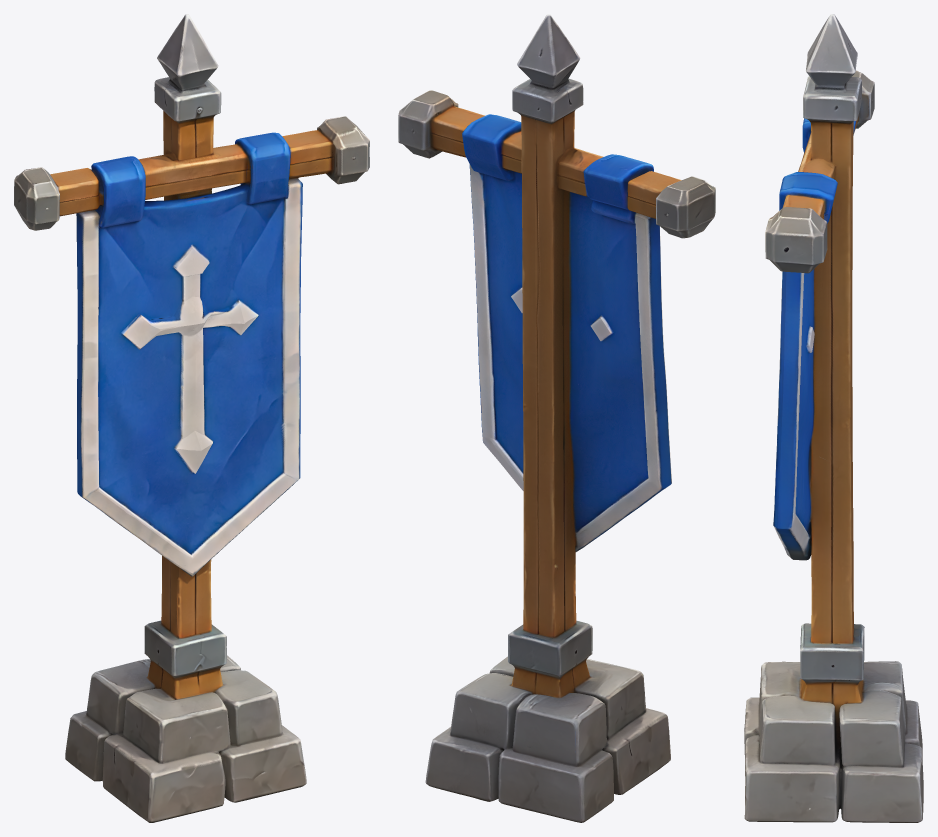
Rendered from banner.glb.
The picture shows the model from 3 angles, left to right: view 1: azimuth 30°, elevation 25°; view 2: azimuth 150°, elevation 25°; view 3: azimuth 270°, elevation 25°; orthographic projection.
Visible parts, largest first — view 1: model; view 2: model; view 3: model.
Part boxes in pixels (x1,y1,x2,y2): model: (14, 14, 369, 822); model: (398, 14, 715, 822); model: (744, 14, 923, 822).
Size of the model in its own units: 0.8439 by 1.9 by 0.4012.
1 material, 1 textured.
